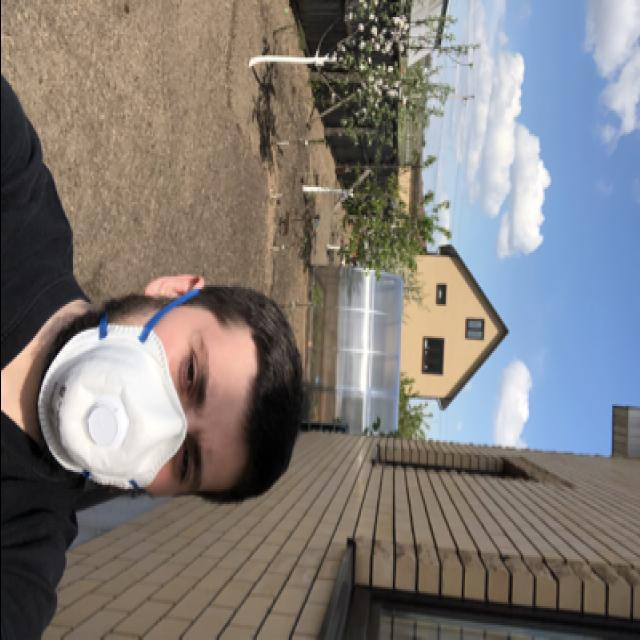with_mask: (28, 304, 238, 493)
